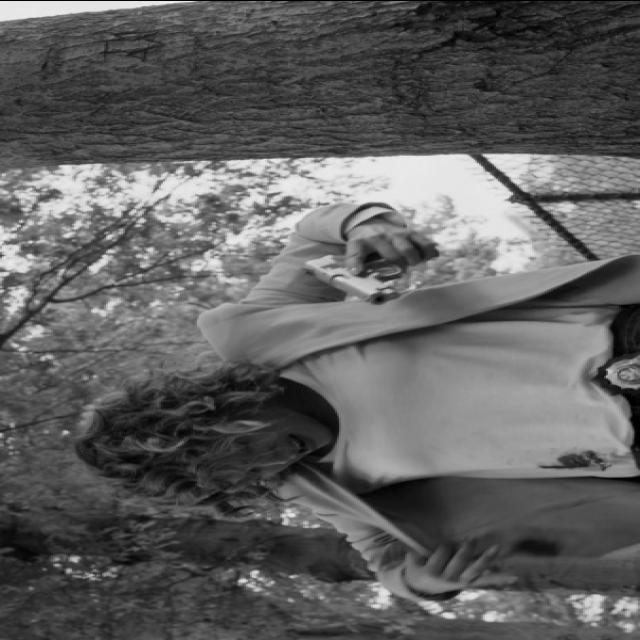weapons: (280, 235, 480, 308)
